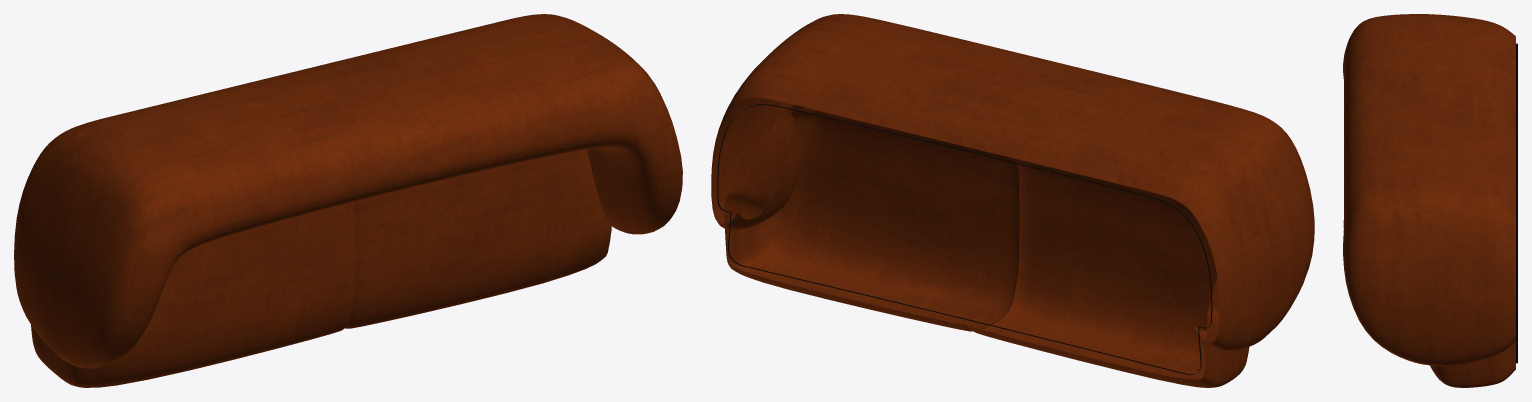
File: SM_Sofa.obj
The picture shows the model from 3 angles, left to right: view 1: azimuth 30°, elevation 25°; view 2: azimuth 150°, elevation 25°; view 3: azimuth 270°, elevation 25°; orthographic projection. The views are drawn at different scales.
Parts seen in each view (by area): view 1: SM_Sofa; view 2: SM_Sofa; view 3: SM_Sofa.
Boxes of the visible parts, x1,y1,x2,y2 form: SM_Sofa: (14, 14, 682, 387); SM_Sofa: (711, 14, 1314, 387); SM_Sofa: (1343, 14, 1517, 387).
Bounding box in the file's own units: 2.1 × 0.8669 × 0.7094.
Materials: 2 (2 with a texture image).
